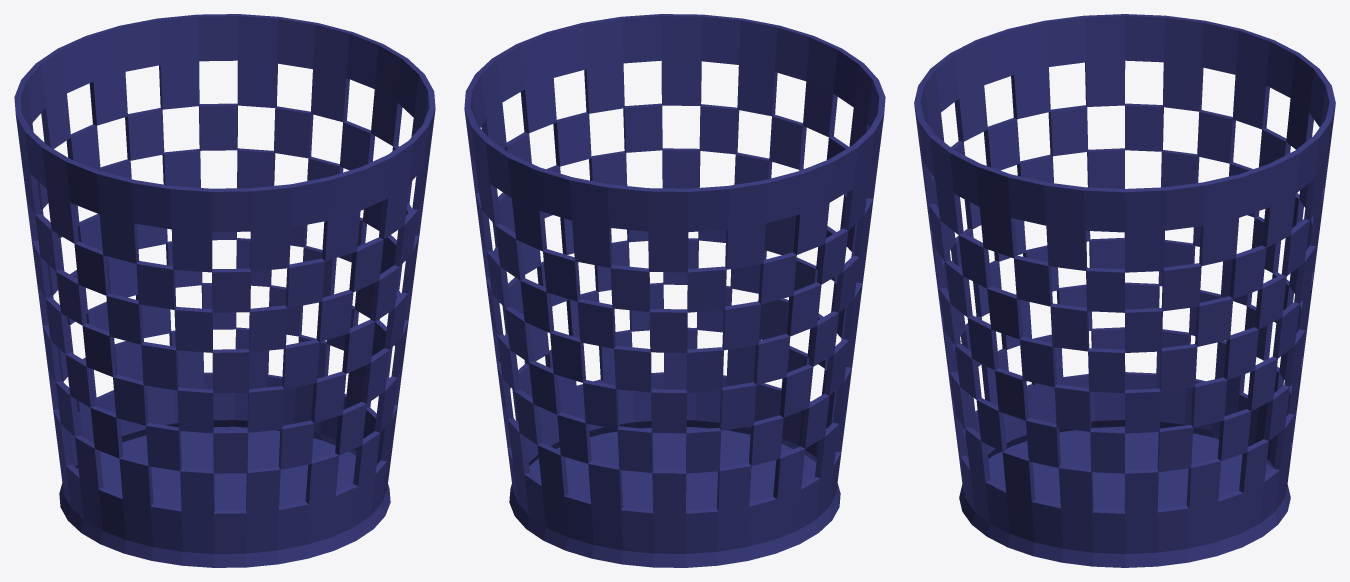
The model's file is bin.fbx.
3 renders of one model, left to right at view 1: azimuth 30°, elevation 25°; view 2: azimuth 150°, elevation 25°; view 3: azimuth 270°, elevation 25°, orthographic.
Parts seen in each view (by area): view 1: Bin; view 2: Bin; view 3: Bin.
Part boxes in pixels (bbox=[...]): Bin: bbox=[14, 14, 435, 567]; Bin: bbox=[464, 14, 885, 567]; Bin: bbox=[914, 14, 1335, 567].
Size of the model in its own units: 279 by 289 by 279.
